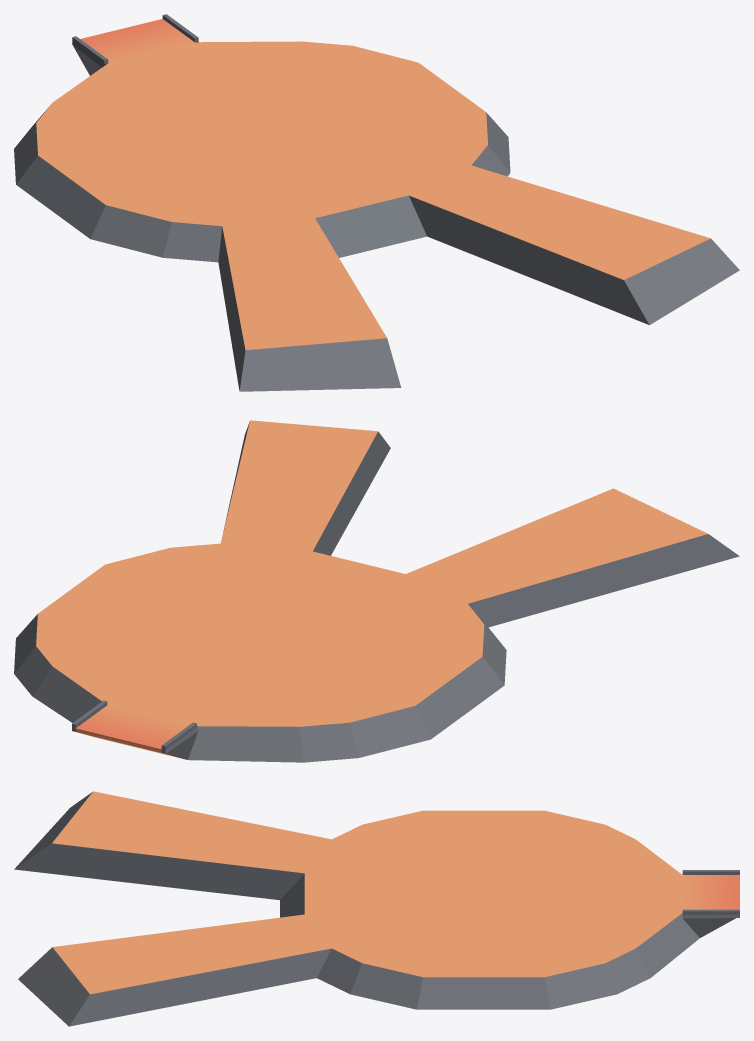
Rendered from levelend2.fbx.
3 renders of one model, top to bottom at view 1: azimuth 30°, elevation 25°; view 2: azimuth 150°, elevation 25°; view 3: azimuth 270°, elevation 25°, orthographic. The views are drawn at different scales.
Parts seen in each view (by area): view 1: road.002; view 2: road.002; view 3: road.002.
Boxes of the visible parts, x1=… form: road.002: x1=14, y1=14, x2=739, y2=391; road.002: x1=14, y1=420, x2=739, y2=762; road.002: x1=14, y1=791, x2=739, y2=1026.
Size of the model in its own units: 34.02 by 2.36 by 47.68.
